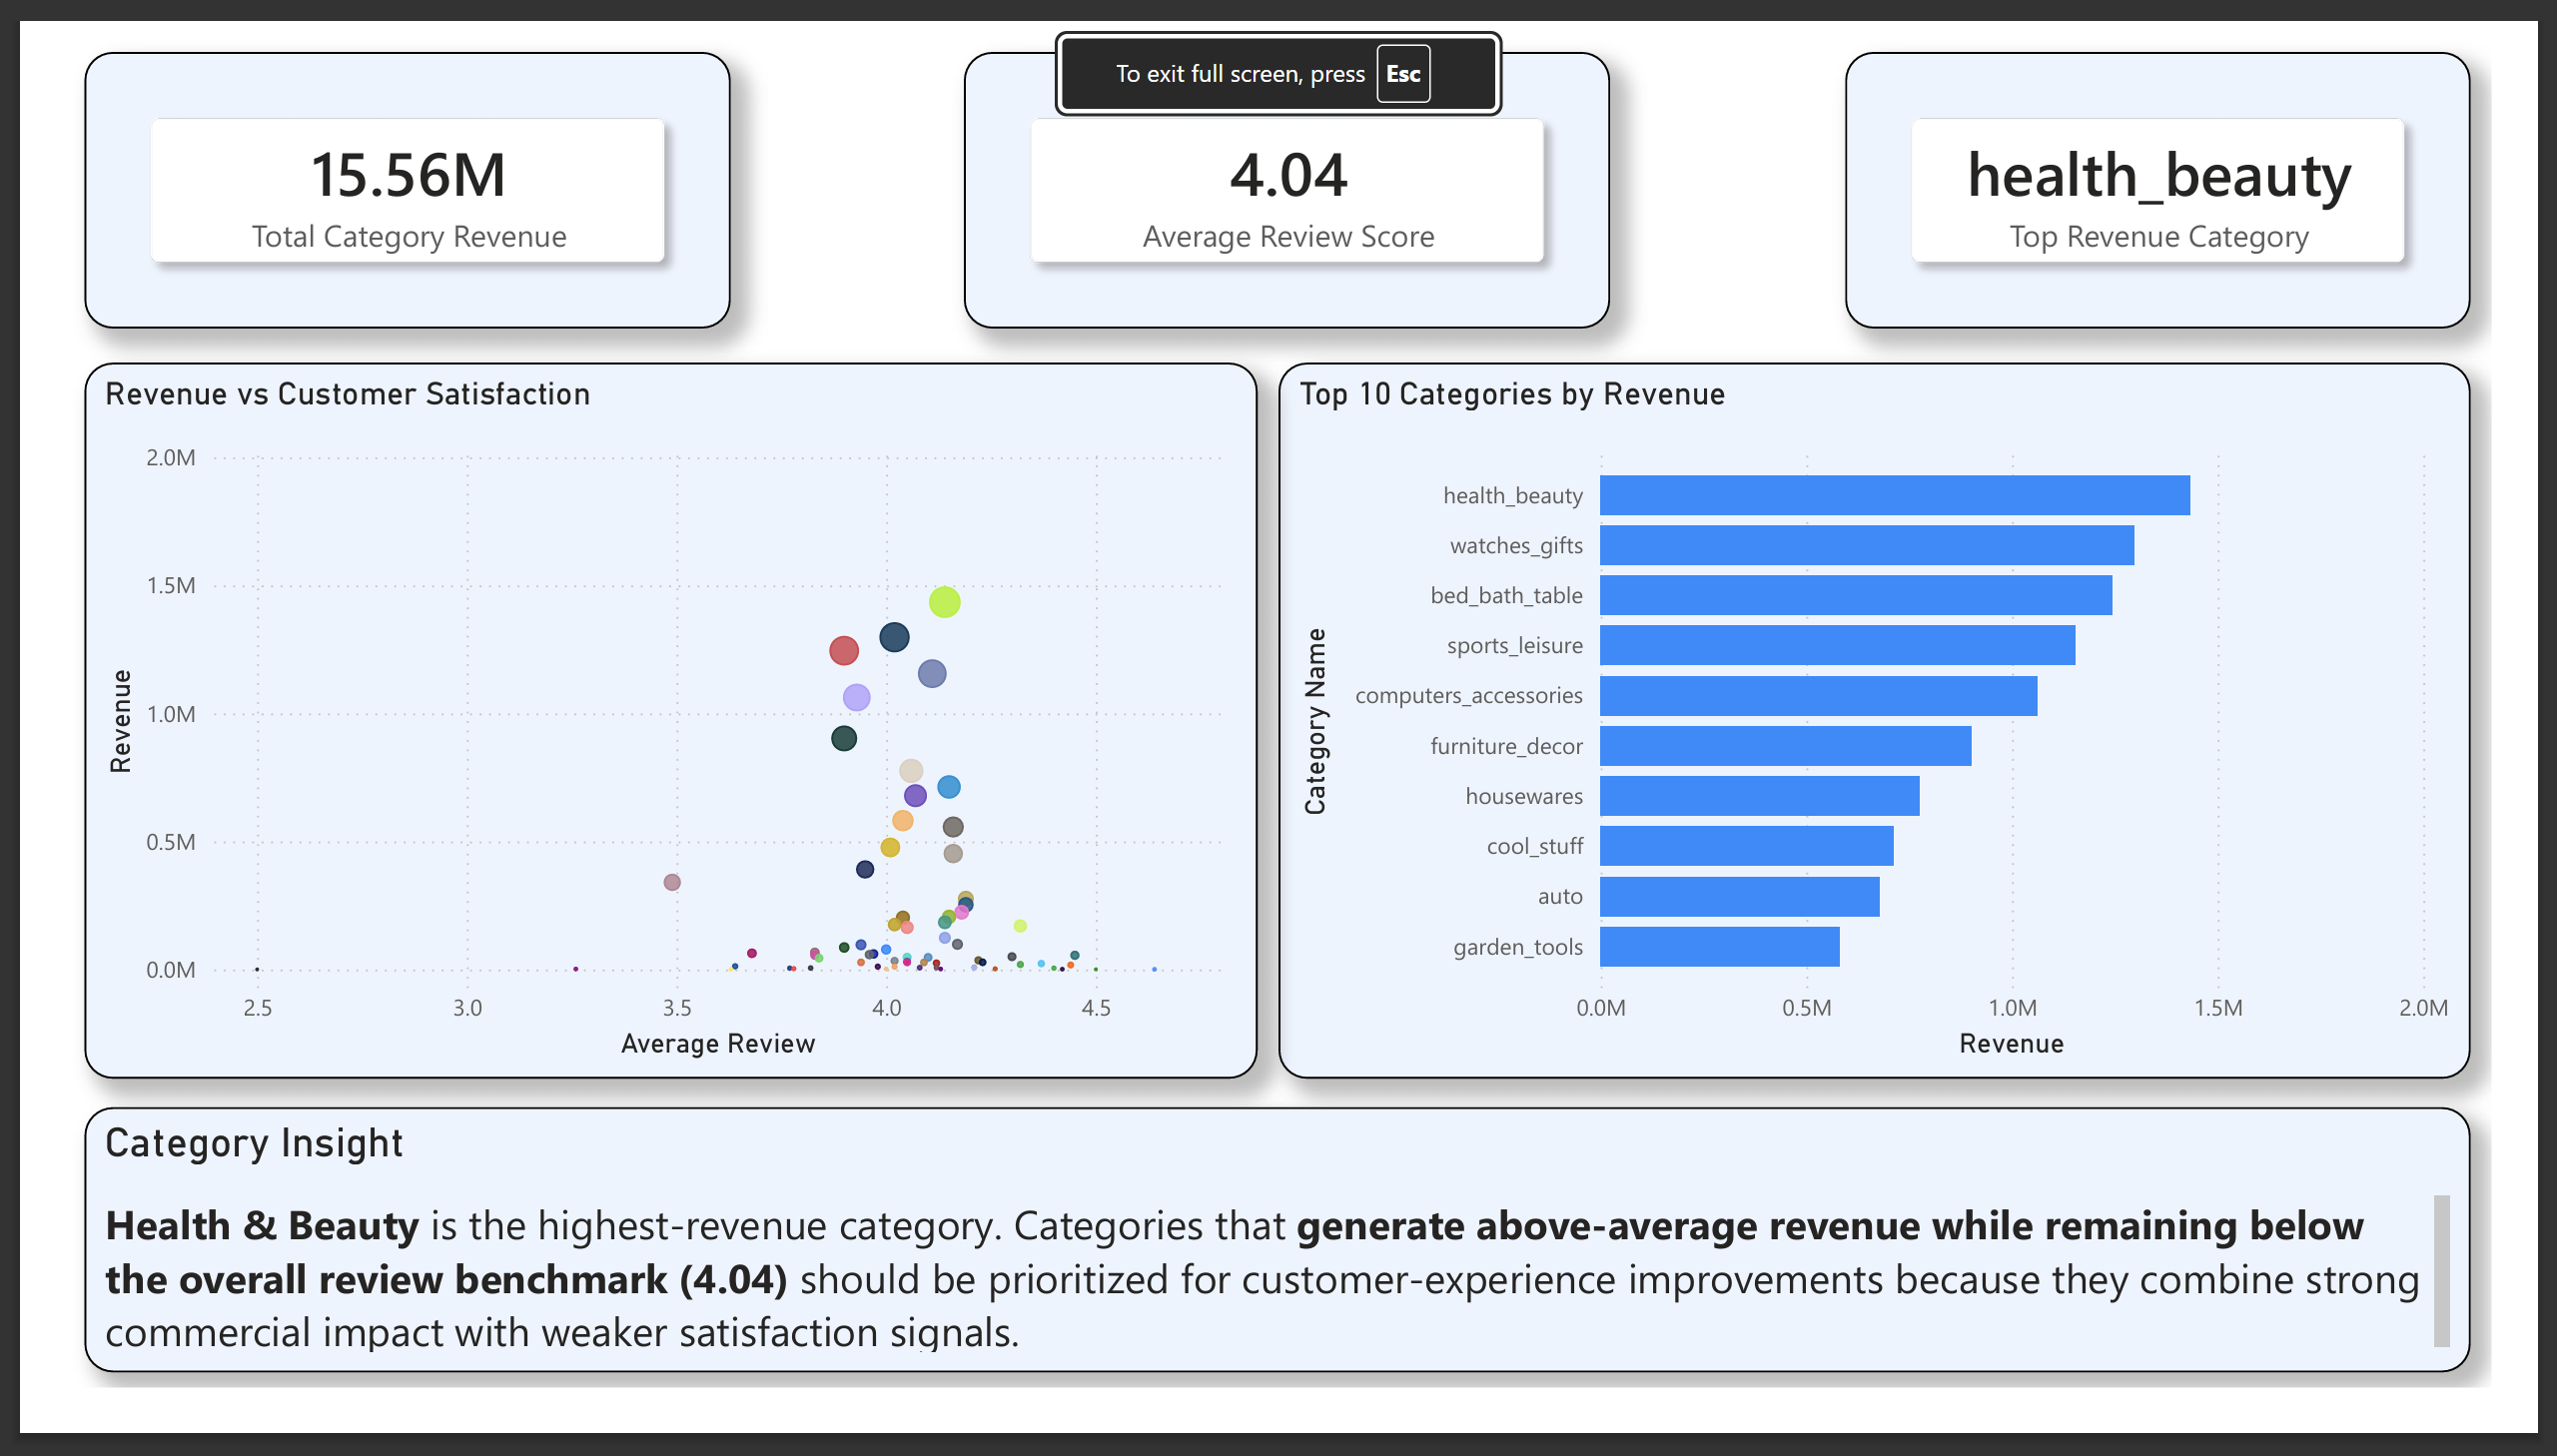

The dashboard page shown, as its layout file describes it:
{"tool":"powerbi","page":{"name":"Category Satisfaction vs Revenue","canvas":[1280,720],"ordinal":3},"visuals":[{"type":"barChart","title":"Top 10 Categories by Revenue","fields":{"Category":["category_satisfaction_revenue.category_name"],"Y":["Sum(category_satisfaction_revenue.revenue)"]},"box":[639.7,179,629.1,378.1],"z":0},{"type":"scatterChart","title":"Revenue vs Customer Satisfaction","fields":{"X":["category_satisfaction_revenue.avg_review"],"Y":["category_satisfaction_revenue.revenue"],"Size":["Sum(category_satisfaction_revenue.revenue_share_pct)"],"Series":["category_satisfaction_revenue.category_name"]},"box":[9.5,179,619.5,378.1],"z":1000},{"type":"cardVisual","fields":{"Data":["category_satisfaction_revenue.Top Revenue Category"]},"box":[939.4,14.8,329.4,146.1],"z":2000},{"type":"cardVisual","fields":{"Data":["category_satisfaction_revenue.Total Category Revenue"]},"box":[9.5,14.8,341,146.1],"z":3000},{"type":"cardVisual","fields":{"Data":["category_satisfaction_revenue.Average Review Score"]},"box":[474.4,14.8,341,146.1],"z":4000},{"type":"textbox","title":"Category Insight","box":[9.5,571.9,1259.2,139.8],"z":5000}]}

Visuals, with their boxes on the page's 1280x720 design canvas (x1, y1, x2, y2). These are canvas units, not pixel positions in the 2557x1456 screenshot, which may show the page scaled, cropped or inside an application window:
"Top 10 Categories by Revenue" barChart: {"left": 640, "top": 179, "right": 1269, "bottom": 557}
"Revenue vs Customer Satisfaction" scatterChart: {"left": 10, "top": 179, "right": 629, "bottom": 557}
cardVisual - category_satisfaction_revenue.Top Revenue Category: {"left": 939, "top": 15, "right": 1269, "bottom": 161}
cardVisual - category_satisfaction_revenue.Total Category Revenue: {"left": 10, "top": 15, "right": 350, "bottom": 161}
cardVisual - category_satisfaction_revenue.Average Review Score: {"left": 474, "top": 15, "right": 815, "bottom": 161}
"Category Insight" textbox: {"left": 10, "top": 572, "right": 1269, "bottom": 712}
